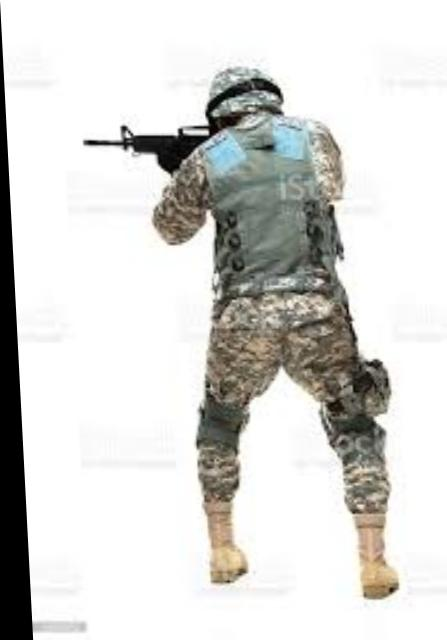other: (162, 80, 386, 582)
